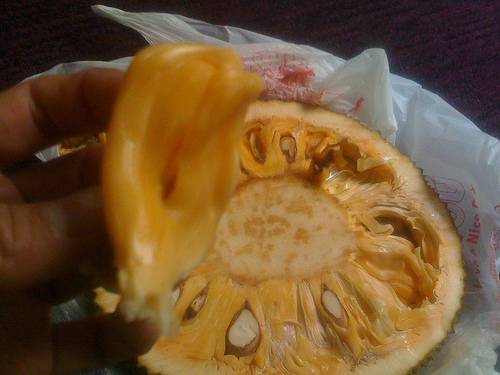jackfruit: (90, 96, 468, 374), (101, 38, 268, 303)
